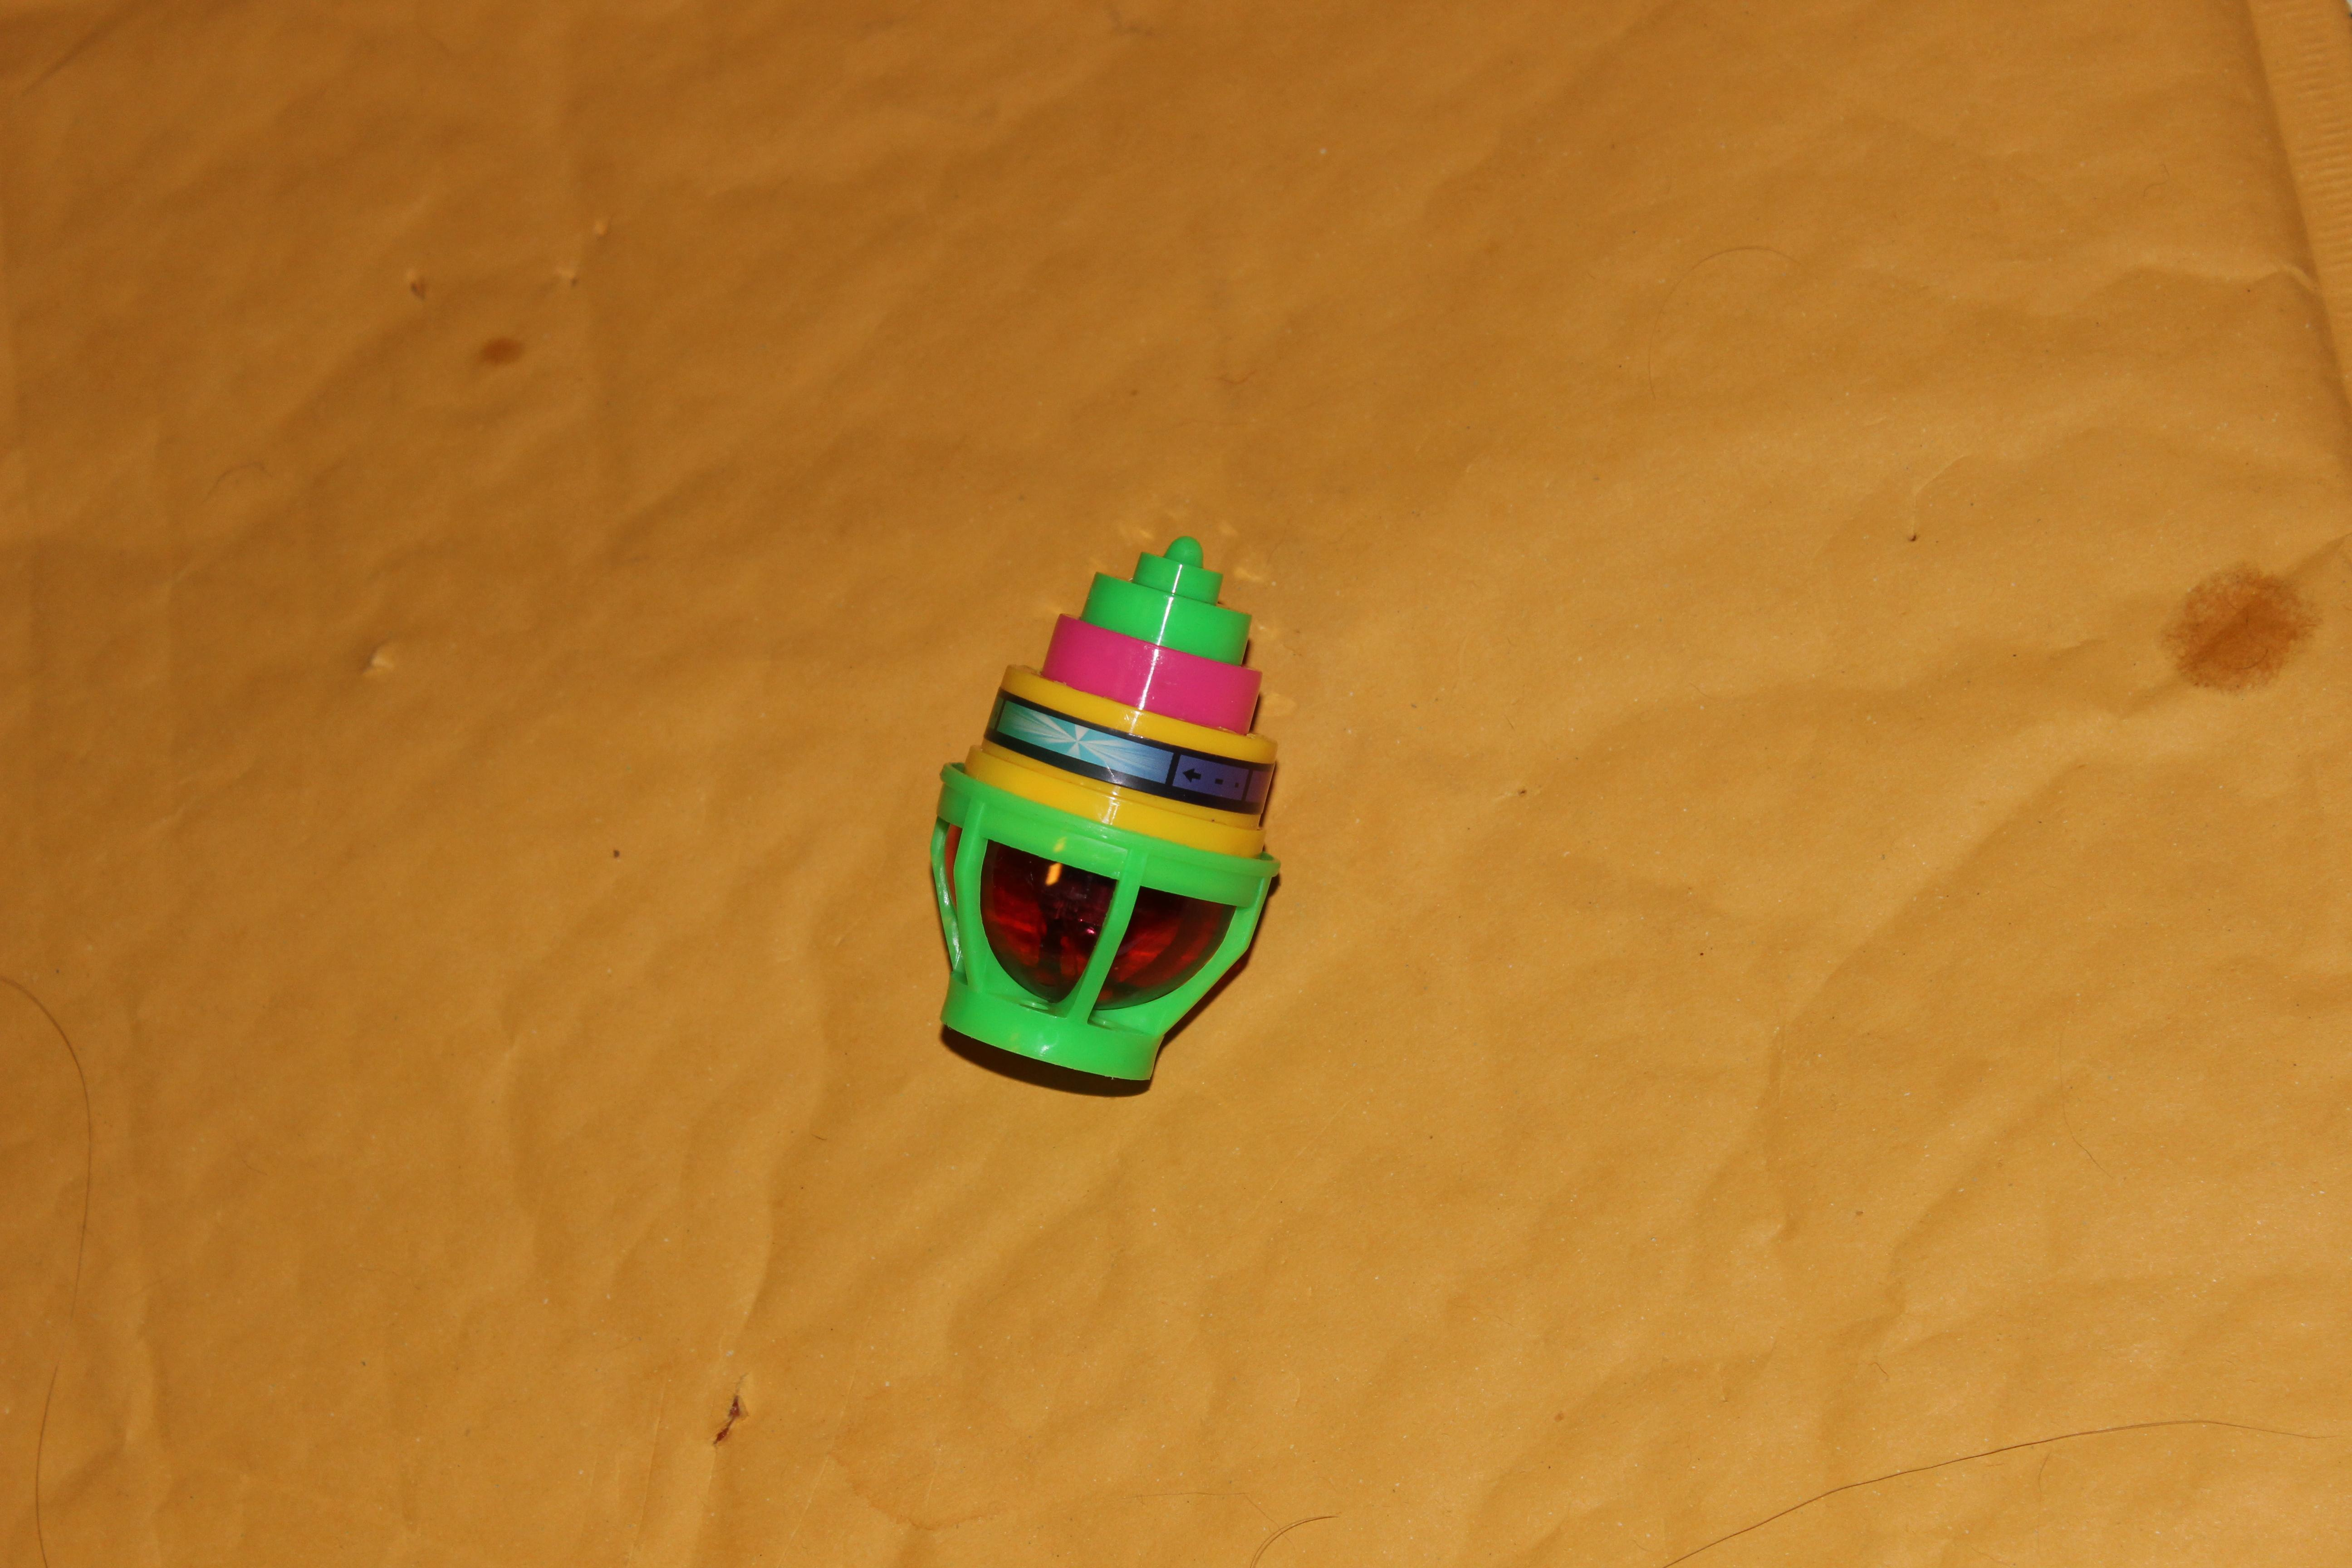gyroscope: (889, 522, 1318, 1138)
